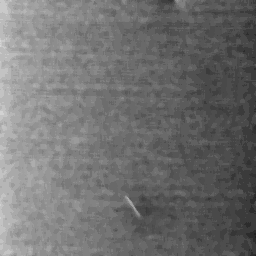sct: (122, 193, 144, 223)
